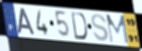4: (36, 10, 50, 37)
5: (53, 10, 71, 39)
A: (17, 7, 36, 37)
D: (70, 11, 88, 41)
M: (105, 14, 130, 45)
S: (90, 13, 110, 43)
